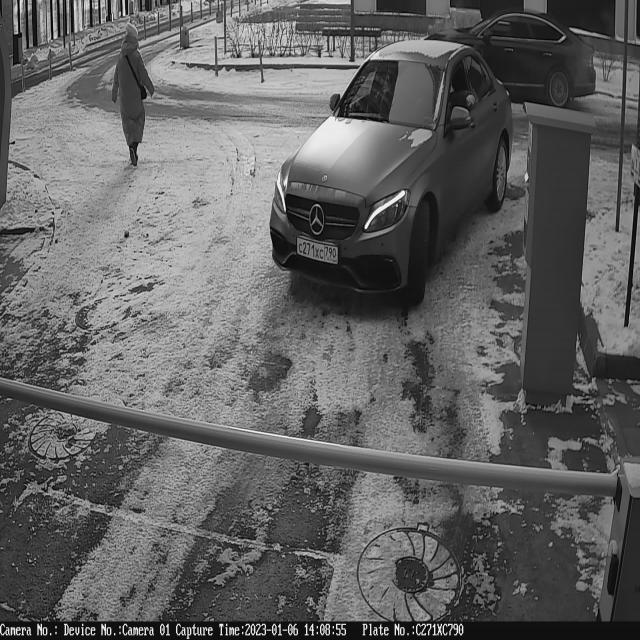car-plate-numbers: (295, 232, 341, 273)
